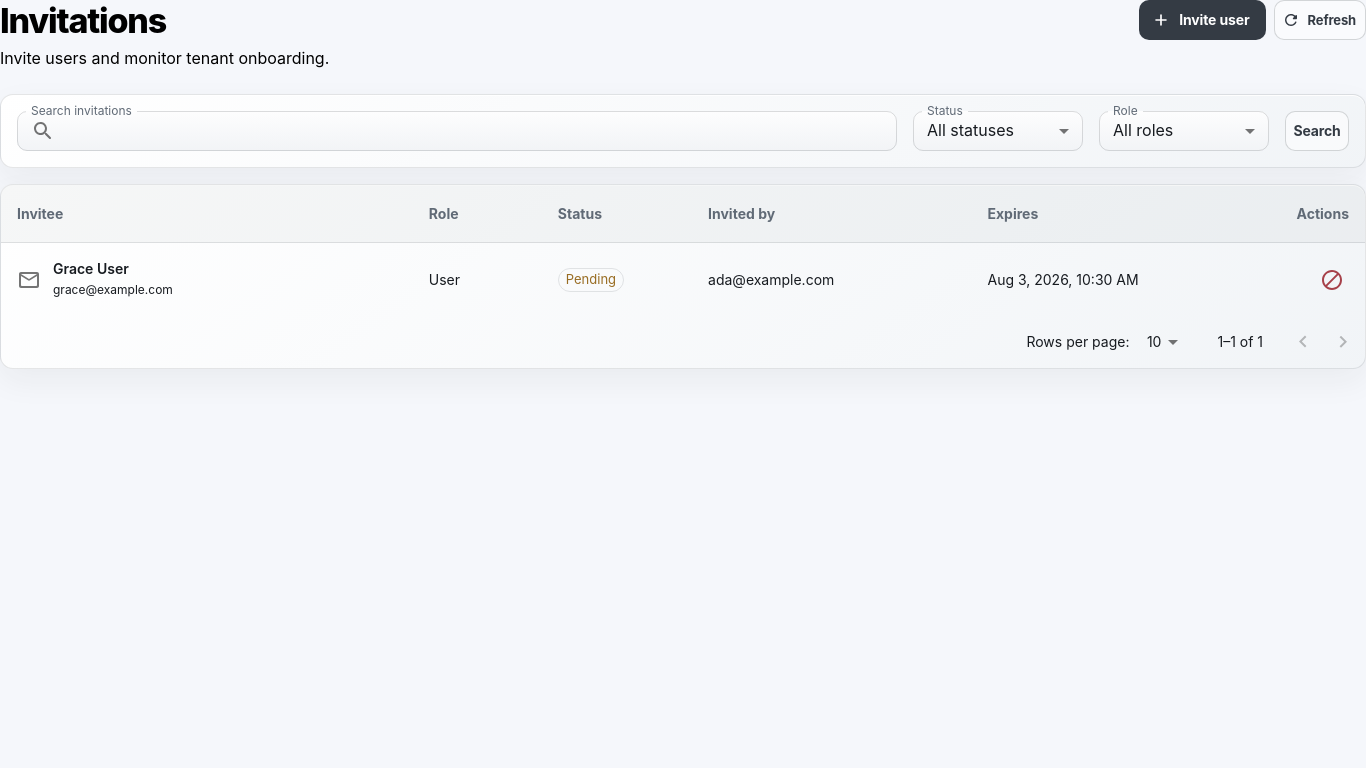
Test: InvitationsPage › creates a normalized invitation and exposes its acceptance link
Expected: the text "Grace User" is shown, [53, 260, 129, 277]
Click the button "Invite user": x=1202, y=20 [1139, 0, 1266, 40]
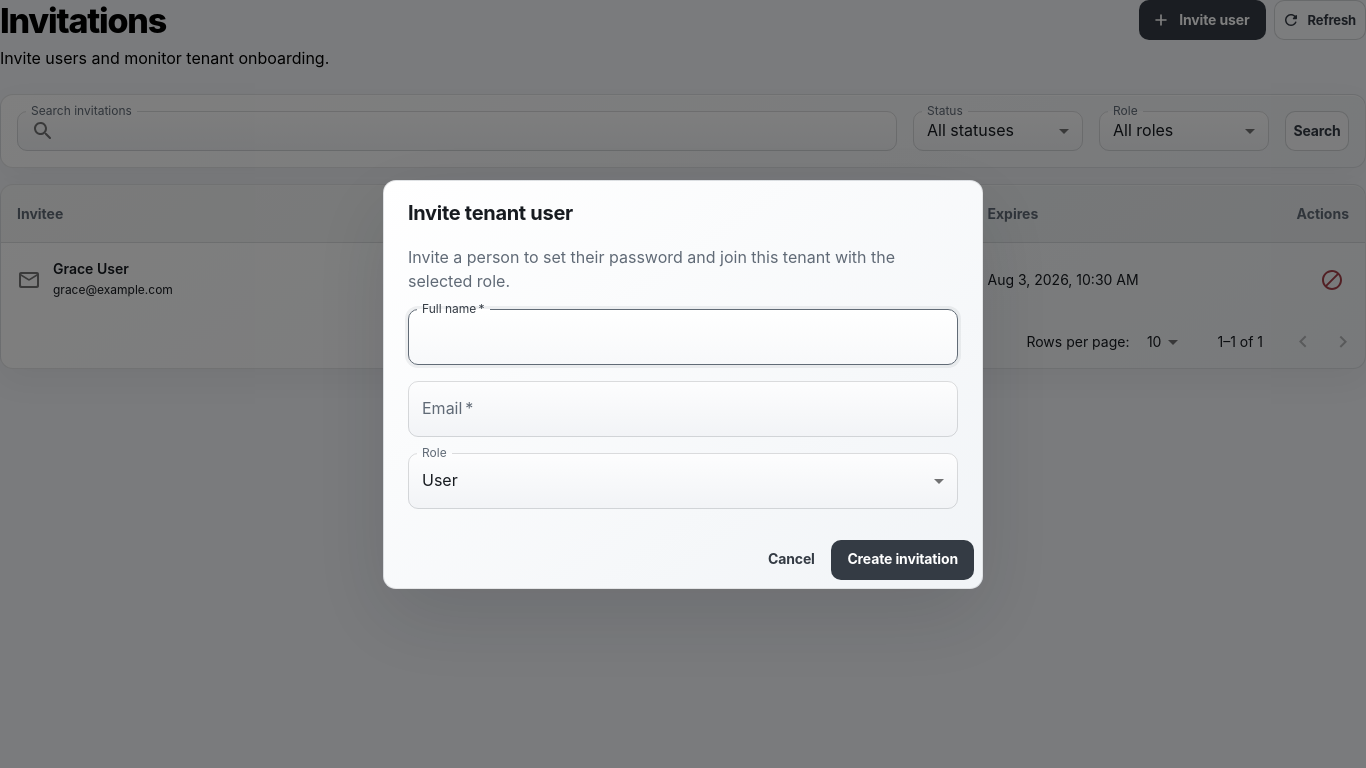
In the field labelled "Full name *": x=683, y=336 [408, 308, 958, 364], type "  Lin User  "
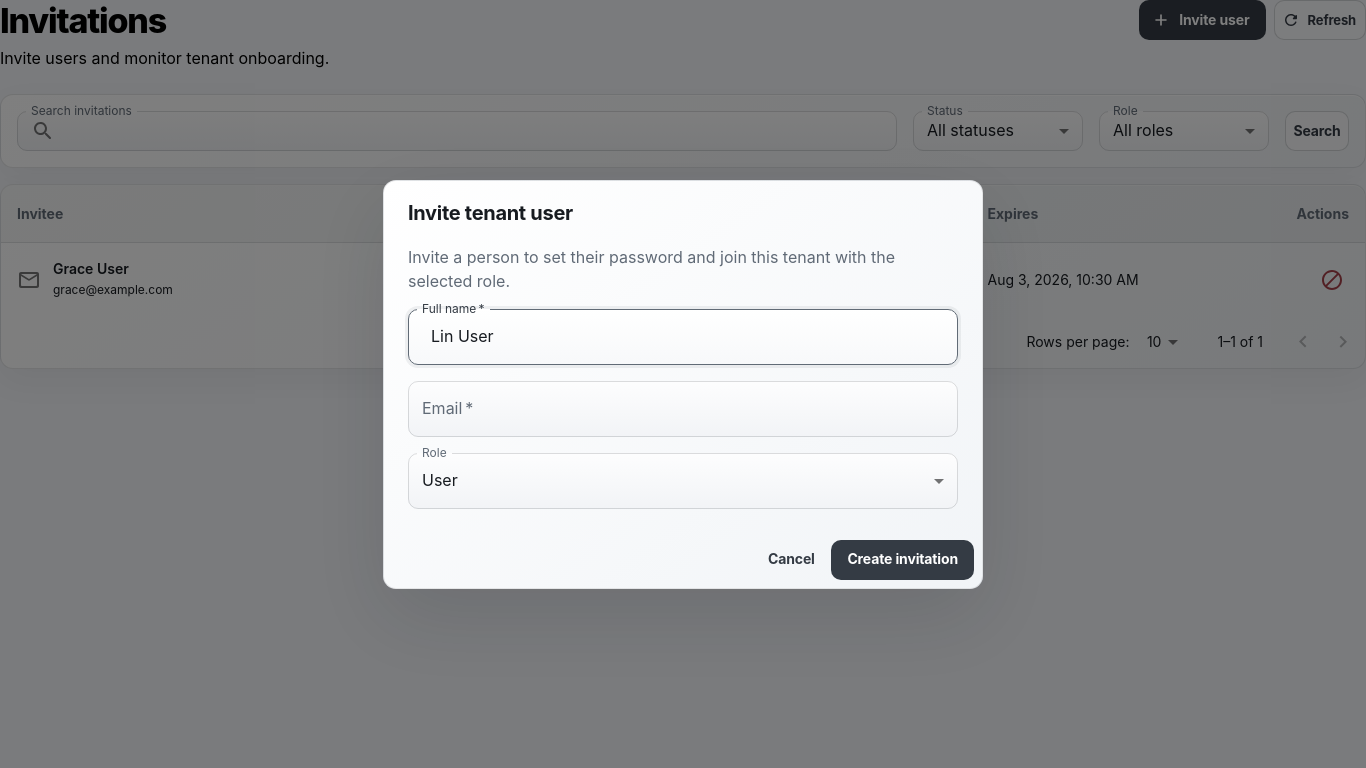
In the field labelled "Email *": x=683, y=408 [408, 380, 958, 436], type "  LIN@EXAMPLE.COM  "
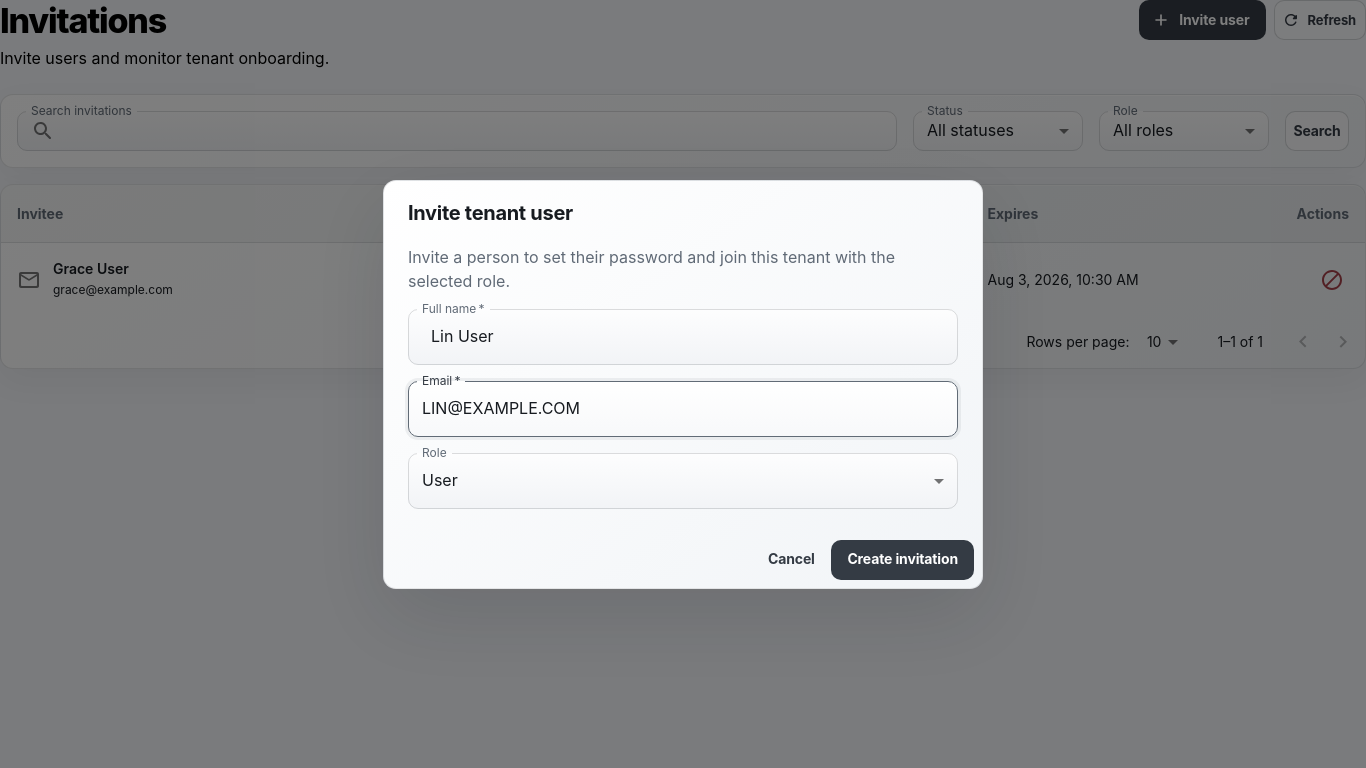
Click the button "Create invitation": x=903, y=560 [831, 540, 974, 580]
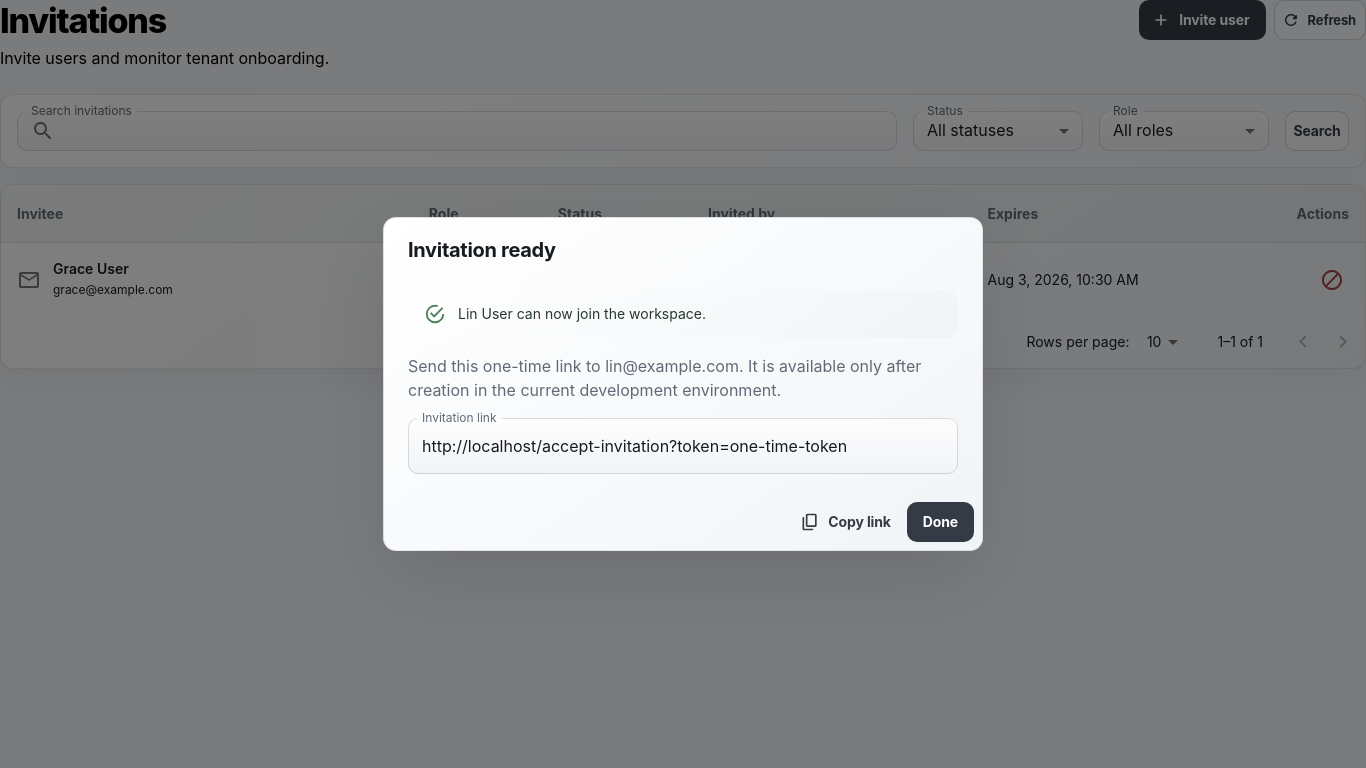
Expected: the dialog "Invitation ready" is shown, [383, 217, 983, 551]
